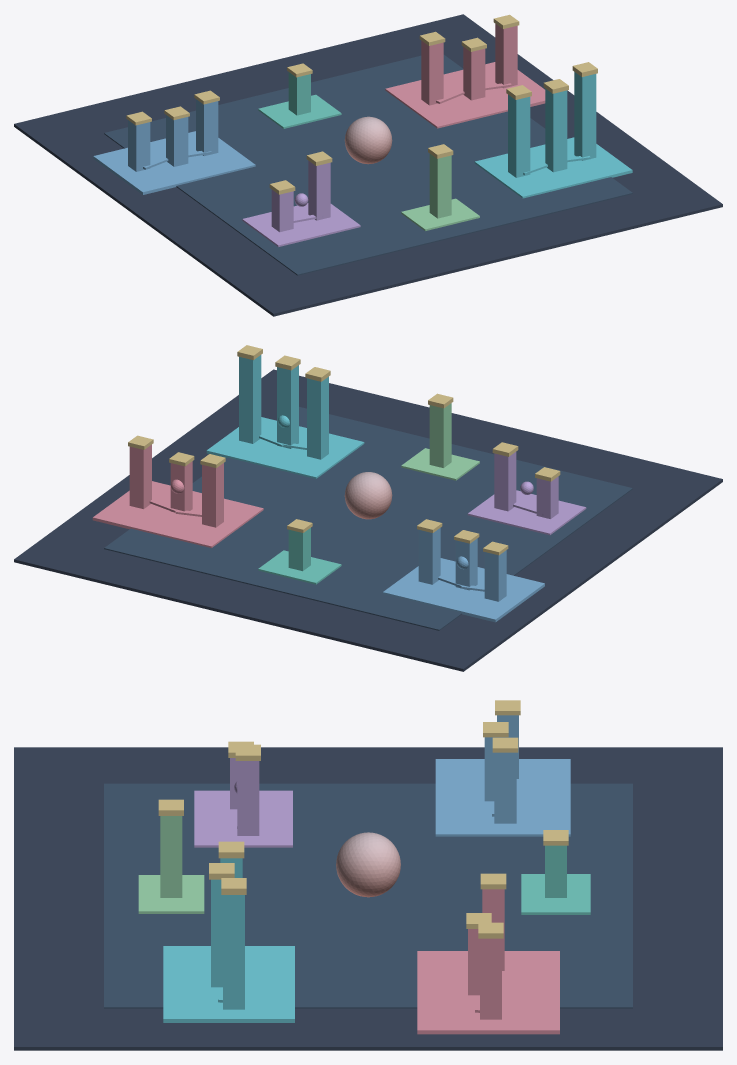
File: workflow_city_test.glb
The picture shows the model from 3 angles, top to bottom: view 1: azimuth 30°, elevation 25°; view 2: azimuth 150°, elevation 25°; view 3: azimuth 270°, elevation 25°; orthographic projection. The views are drawn at different scales.
Parts seen in each view (by area): view 1: ground, ground_ring, group_model, group_surface, group_sim, group_anim, module_k_quantum, module_k_chronos, core_nexus, module_k_tecton, module_k_inspect, module_k_graphos (+10 smaller); view 2: ground, ground_ring, group_surface, group_model, group_sim, group_anim, module_k_quantum, core_nexus, module_k_tecton, module_k_chronos, module_k_inspect, module_k_painter (+10 smaller); view 3: ground, ground_ring, group_surface, group_model, group_sim, group_anim, core_nexus, module_k_quantum, group_uv, group_render, module_k_inspect, module_k_painter (+7 smaller).
Part boxes in pixels (x1,y1,x2,y2): ground: [14, 14, 722, 316]; ground_ring: [104, 55, 632, 275]; group_model: [93, 131, 255, 194]; group_surface: [385, 62, 545, 128]; group_sim: [474, 137, 632, 198]; group_anim: [242, 203, 360, 246]; module_k_quantum: [574, 72, 596, 160]; module_k_chronos: [545, 88, 567, 172]; core_nexus: [344, 116, 392, 164]; module_k_tecton: [508, 94, 530, 177]; module_k_inspect: [429, 154, 451, 218]; module_k_graphos: [421, 40, 443, 105]; ground: [14, 369, 722, 671]; ground_ring: [104, 407, 632, 630]; group_surface: [92, 481, 263, 547]; group_model: [383, 558, 544, 622]; group_sim: [206, 417, 364, 478]; group_anim: [467, 490, 586, 535]; module_k_quantum: [239, 355, 261, 443]; core_nexus: [344, 472, 392, 519]; module_k_tecton: [307, 376, 328, 459]; module_k_chronos: [277, 365, 298, 448]; module_k_inspect: [429, 403, 451, 467]; module_k_painter: [129, 444, 151, 509]; ground: [14, 747, 722, 1050]; ground_ring: [104, 783, 632, 1008]; group_surface: [417, 951, 559, 1034]; group_model: [435, 759, 570, 836]; group_sim: [163, 946, 294, 1022]; group_anim: [194, 790, 292, 847]; core_nexus: [336, 832, 400, 897]; module_k_quantum: [223, 895, 244, 1009]; group_uv: [521, 874, 590, 914]; group_render: [138, 875, 204, 913]; module_k_inspect: [160, 816, 182, 897]; module_k_painter: [480, 938, 501, 1019].
Size of the model in its own units: 29.5 by 5.94 by 29.5.
